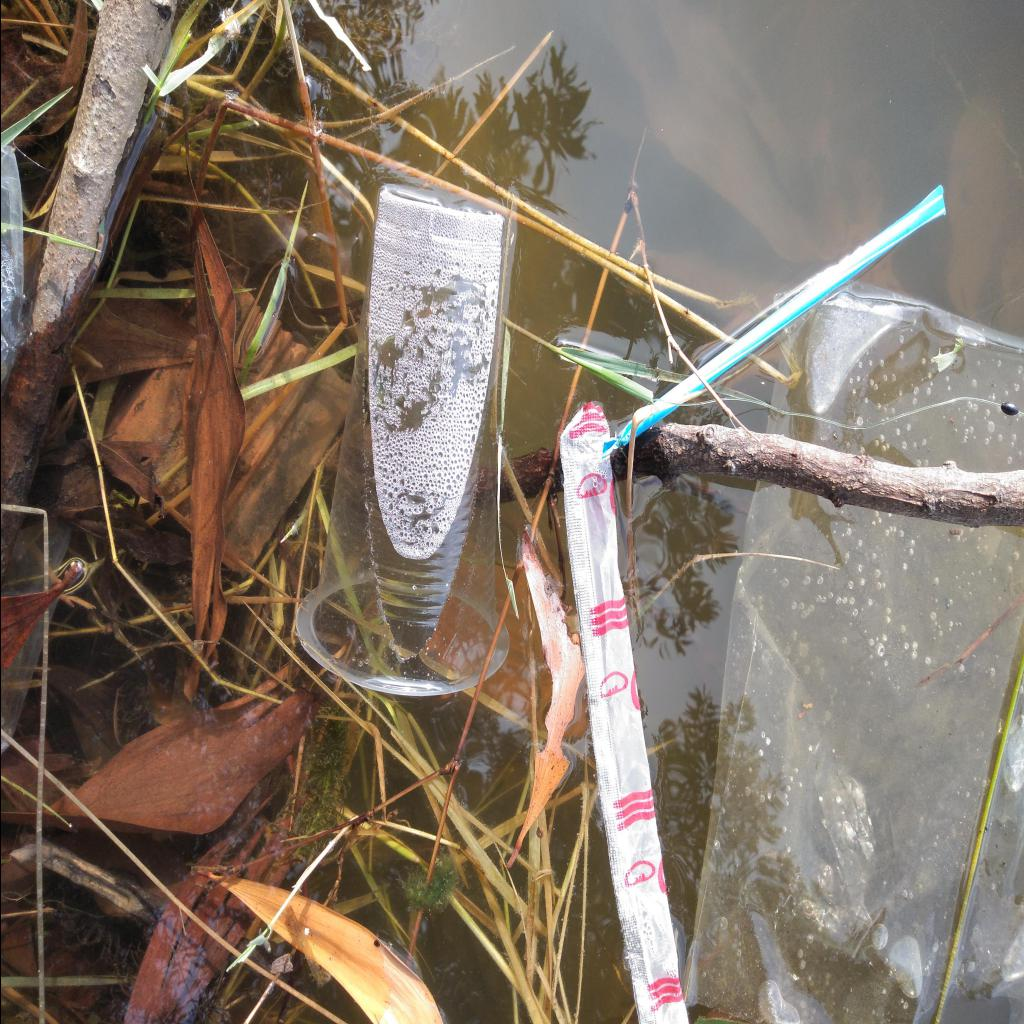Disposable plastic cup: (295, 182, 515, 696)
Plastic film: (682, 282, 1024, 1022), (558, 402, 688, 1024), (0, 516, 72, 754), (0, 146, 22, 398)
Plastic straw: (598, 184, 944, 460)
